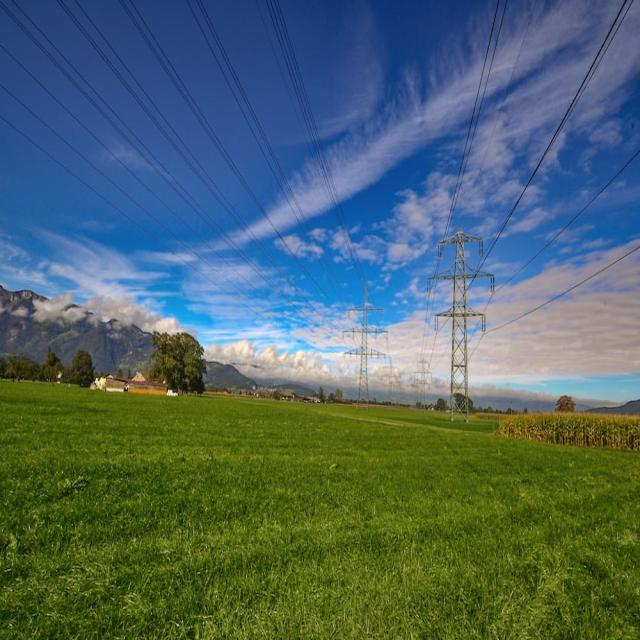transmission tower: (417, 209, 530, 423), (337, 280, 398, 380)
